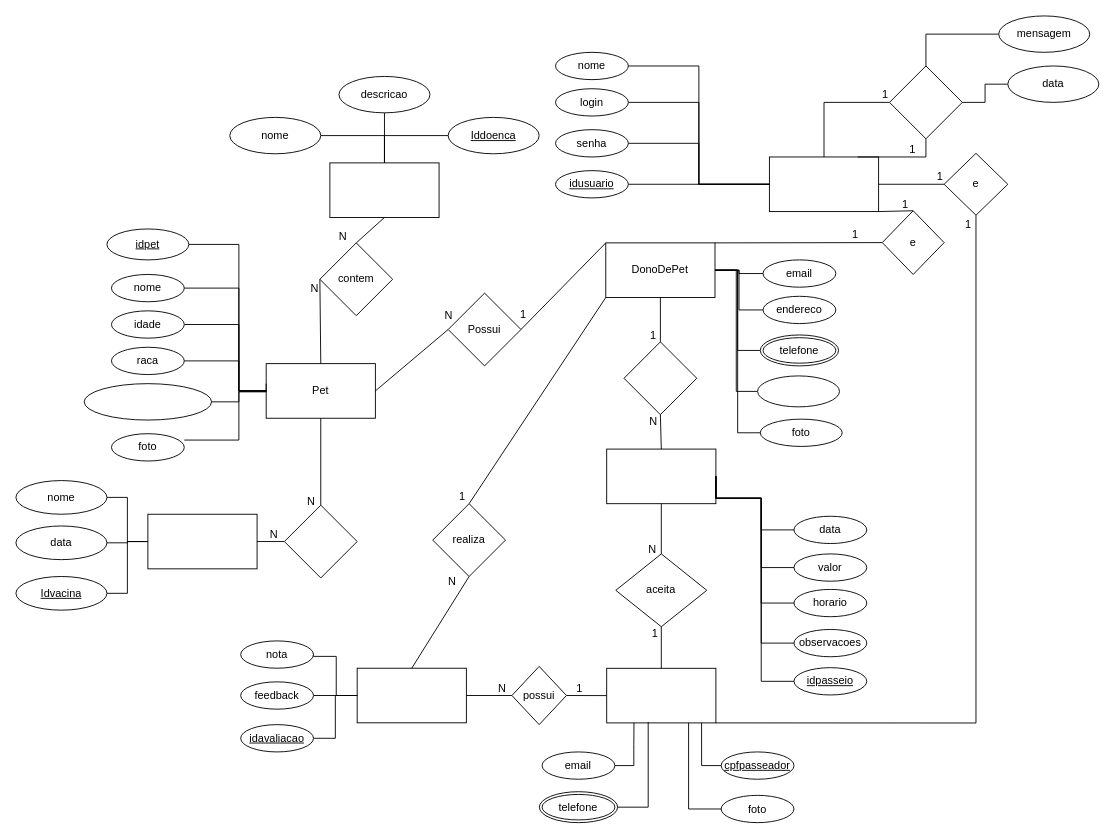
This 1115x839 diagram has some shape labels left out. Each missing label, with the centre of its shape:
"agenda" goes at point 660,378.
"Avaliaçao" goes at point 411,695.
"cpfdono" goes at point 798,391.
"Doenca" goes at point 384,189.
"envia" goes at point 925,102.
"Passeador" goes at point 661,695.
"passeio" goes at point 661,476.
"perfilcomportamental" goes at point 147,401.
"tem" goes at point 320,541.
"Usuario" goes at point 823,184.
"Vacina" goes at point 202,541.
